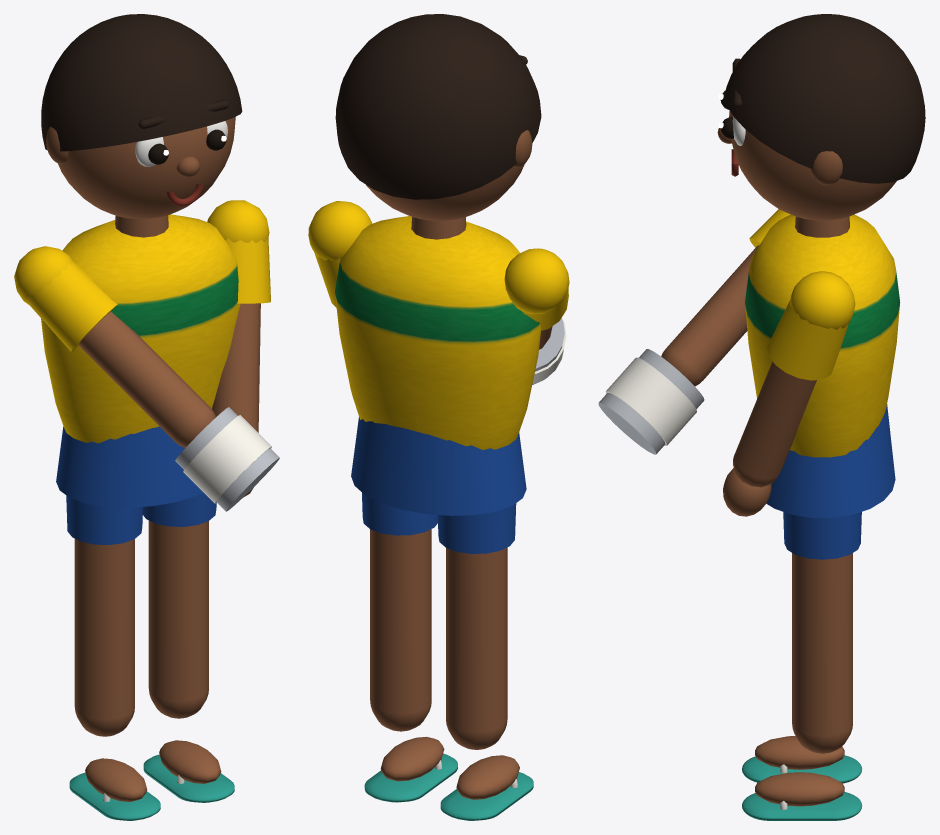
File: moleque-da-laje.glb
3 views of the same model, side by side, from view 1: azimuth 30°, elevation 25°; view 2: azimuth 150°, elevation 25°; view 3: azimuth 270°, elevation 25° (orthographic). The views are drawn at different scales.
Parts seen in each view (by area): view 1: moleque-da-laje; view 2: moleque-da-laje; view 3: moleque-da-laje.
Boxes of the visible parts, box(x1,y1,x2,y2) form: moleque-da-laje: box(14, 14, 279, 820); moleque-da-laje: box(308, 14, 569, 820); moleque-da-laje: box(598, 14, 925, 820).
Size of the model in its own units: 0.6326 by 1.87 by 0.7176.
14 materials, 1 textured.
